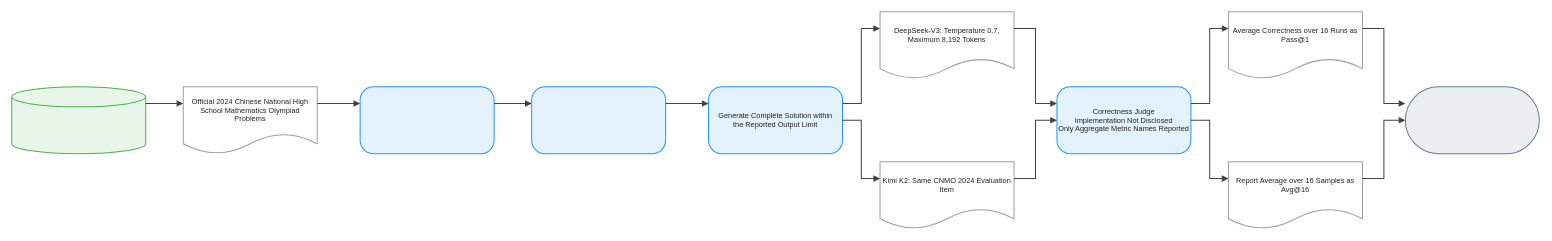
The diagram is 1552 pixels wide and 241 high, and some of its shapes have lost their labels. The shapes that lost their labels are listed below. From the top down, each one's box as (x1, y1, x2, y2) in pixels, then its label:
(11, 86, 146, 154): Chinese Mathematical Society Competition
(359, 86, 494, 154): Official Set Reuse, Not a New Benchmark
(531, 86, 666, 154): Present Chinese Olympiad Problem for Full Mathematical Reasoning
(1405, 86, 1540, 154): Olympiad-Style Chinese Mathematical Reasoning Comparison
